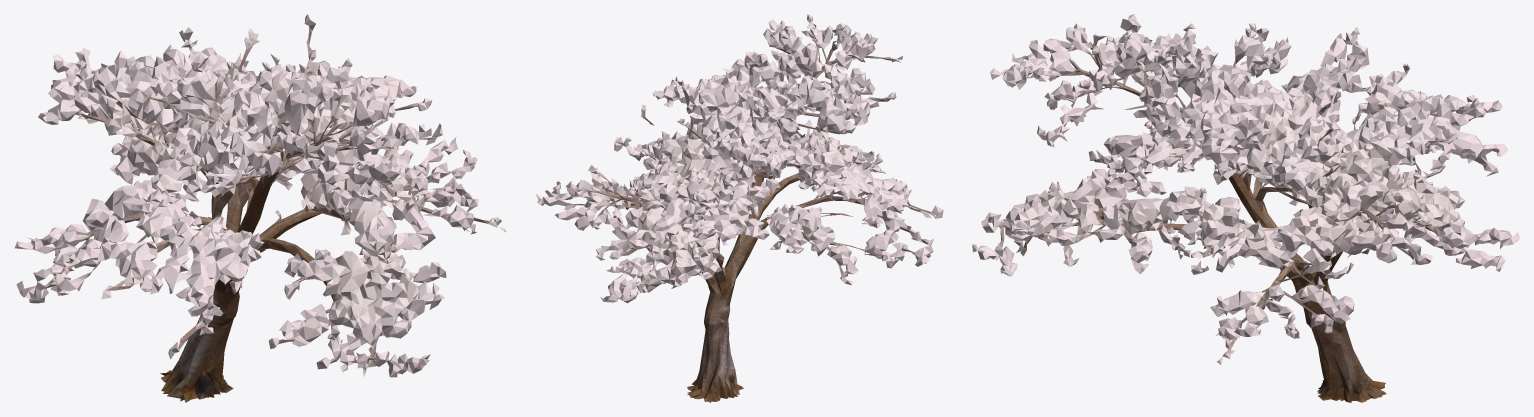
The model's file is source.glb.
The picture shows the model from 3 angles, left to right: view 1: azimuth 30°, elevation 25°; view 2: azimuth 150°, elevation 25°; view 3: azimuth 270°, elevation 25°; orthographic projection. The views are drawn at different scales.
Visible parts, largest first — view 1: model; view 2: model; view 3: model.
Boxes of the visible parts, box(x1,y1,x2,y2) form: model: box(14, 14, 506, 402); model: box(535, 14, 943, 402); model: box(972, 14, 1519, 402).
Size of the model in its own units: 1.77 by 1.37 by 1.88.
1 material, 1 textured.
